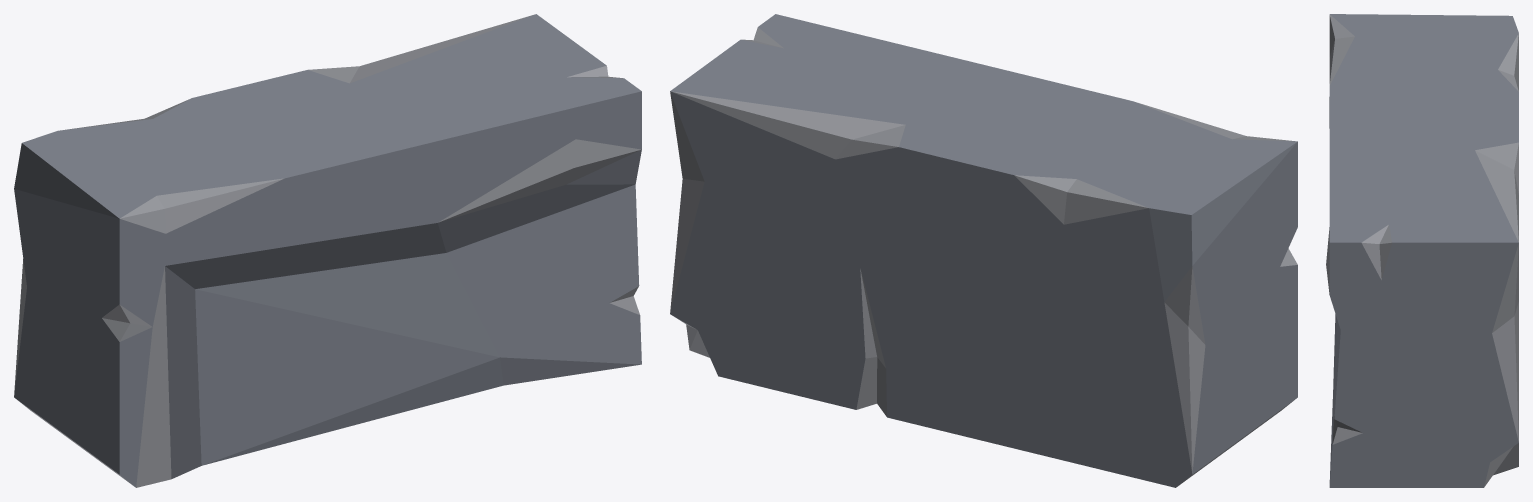
File: mesh_brick_02.fbx
The picture shows the model from 3 angles, left to right: view 1: azimuth 30°, elevation 25°; view 2: azimuth 150°, elevation 25°; view 3: azimuth 270°, elevation 25°; orthographic projection. The views are drawn at different scales.
Parts seen in each view (by area): view 1: mesh_brick_02; view 2: mesh_brick_02; view 3: mesh_brick_02.
Part boxes in pixels (x1,y1,x2,y2): mesh_brick_02: [14, 14, 641, 487]; mesh_brick_02: [670, 14, 1297, 487]; mesh_brick_02: [1326, 14, 1518, 487].
Bounding box in the file's own units: 0.6 × 0.3 × 0.2139.
